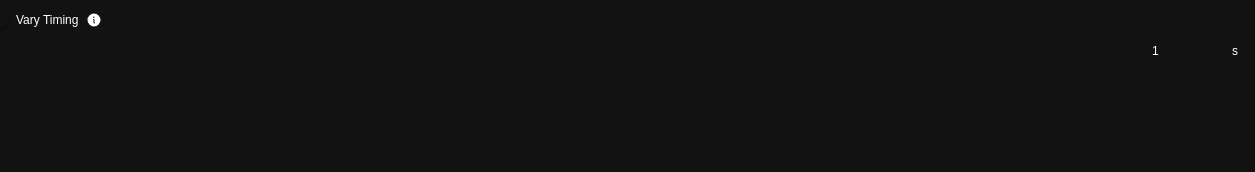
Test case: HumRow › puts its explanation behind an info icon right after the title
The image size is (1255, 172).
Hover over the element with class "info-tip": (94,20) [86,12,102,28]
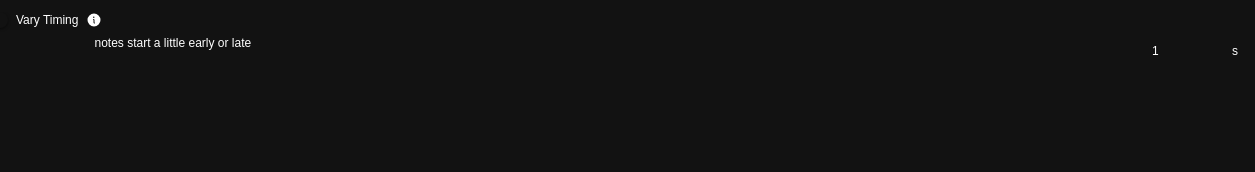
Expected: the tooltip reads "notes start a little early or late", [94,36,251,50]
